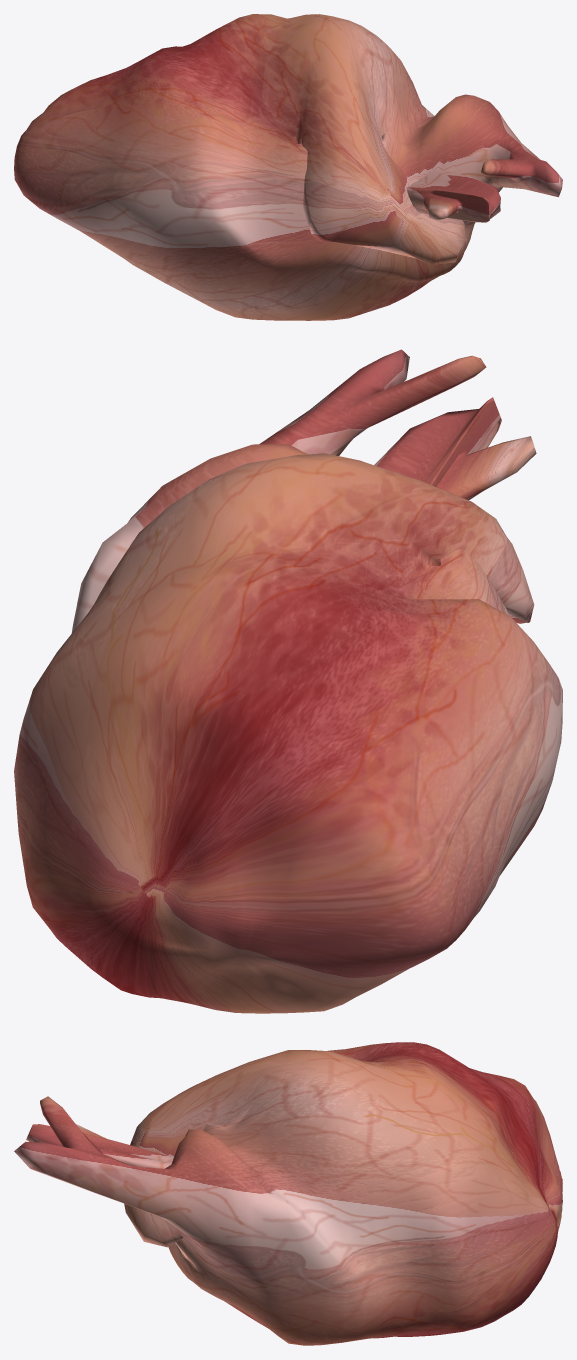
File: Herz4.fbx
3 views of the same model, one above another, from view 1: azimuth 30°, elevation 25°; view 2: azimuth 150°, elevation 25°; view 3: azimuth 270°, elevation 25° (orthographic). The views are drawn at different scales.
Parts seen in each view (by area): view 1: pSphere2; view 2: pSphere2; view 3: pSphere2.
Boxes of the visible parts, x1,y1,x2,y2 form: pSphere2: [14, 14, 562, 320]; pSphere2: [14, 349, 562, 1013]; pSphere2: [14, 1042, 562, 1345].
Bounding box in the file's own units: 4.43 × 3.64 × 6.35.
1 material, 1 textured.
